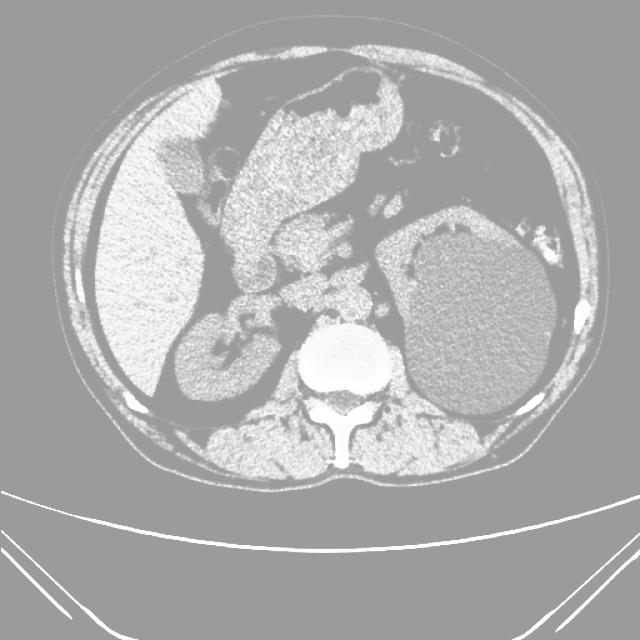cysts: (60, 39, 600, 489)
